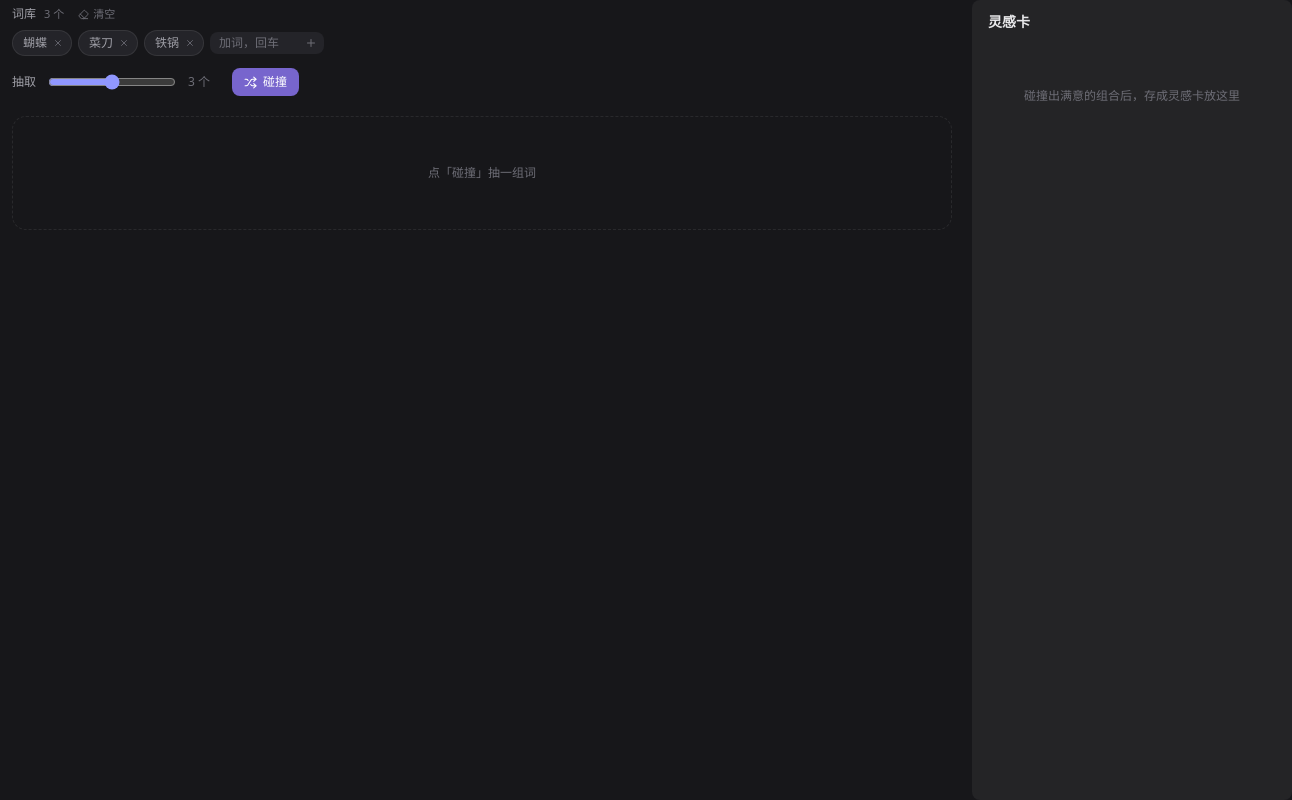
Test case: BumpWorkspace › 回车加词并向词库追加
The width and height of the screenshot is (1292, 800).
Expected: the text "蝴蝶" is shown, left=12, top=30, right=72, bottom=56
Type "灯塔" into the field with placeholder "加词，回车" at [259, 43], box left=219, top=35, right=299, bottom=51
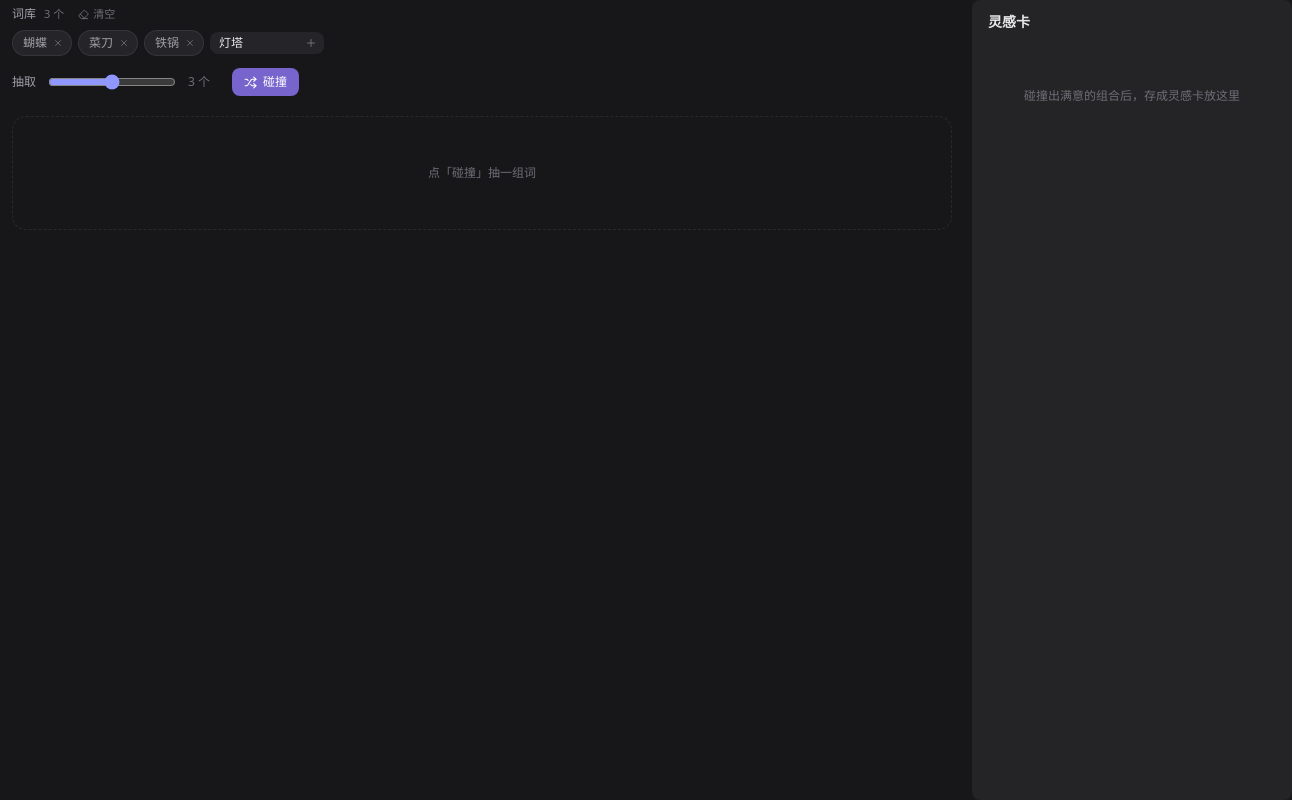
Press Enter in the field with placeholder "加词，回车", box left=219, top=35, right=299, bottom=51
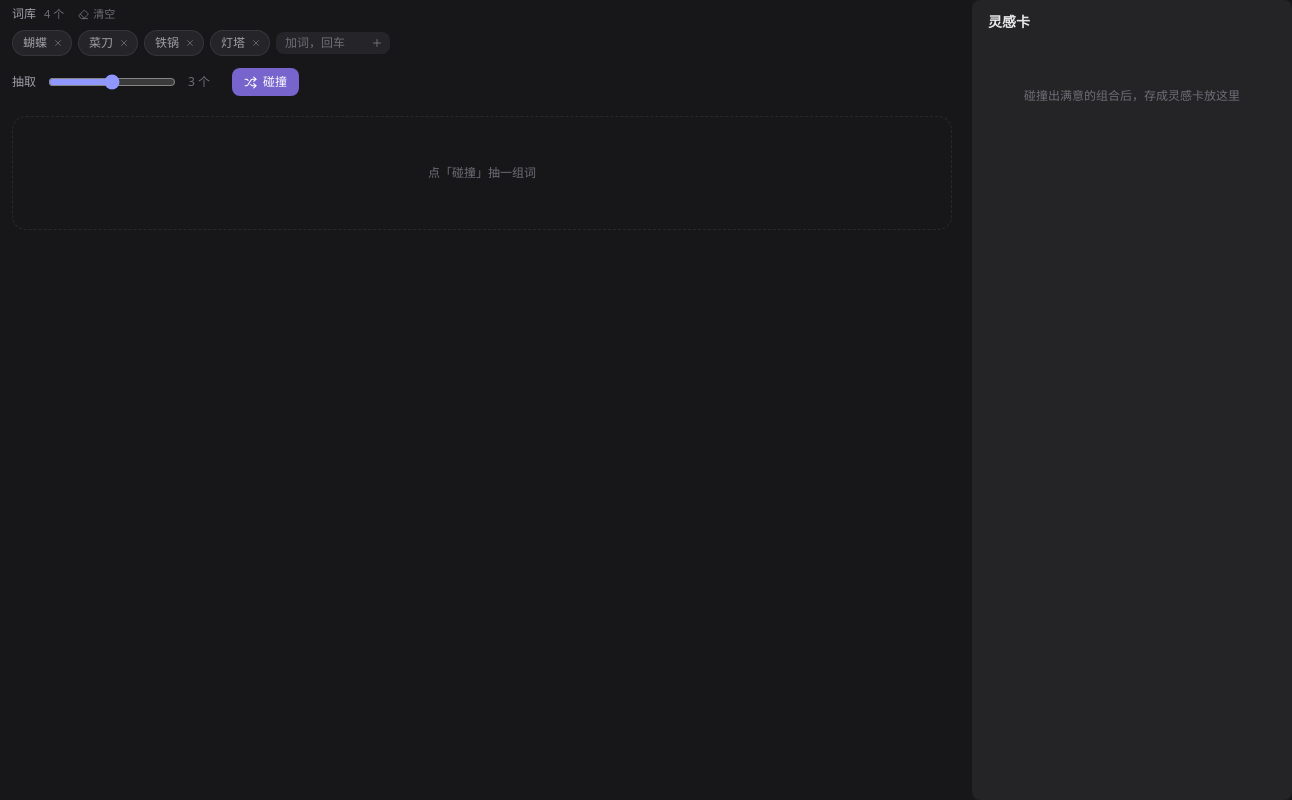
Expected: the text "灯塔" is shown, left=210, top=30, right=270, bottom=56
